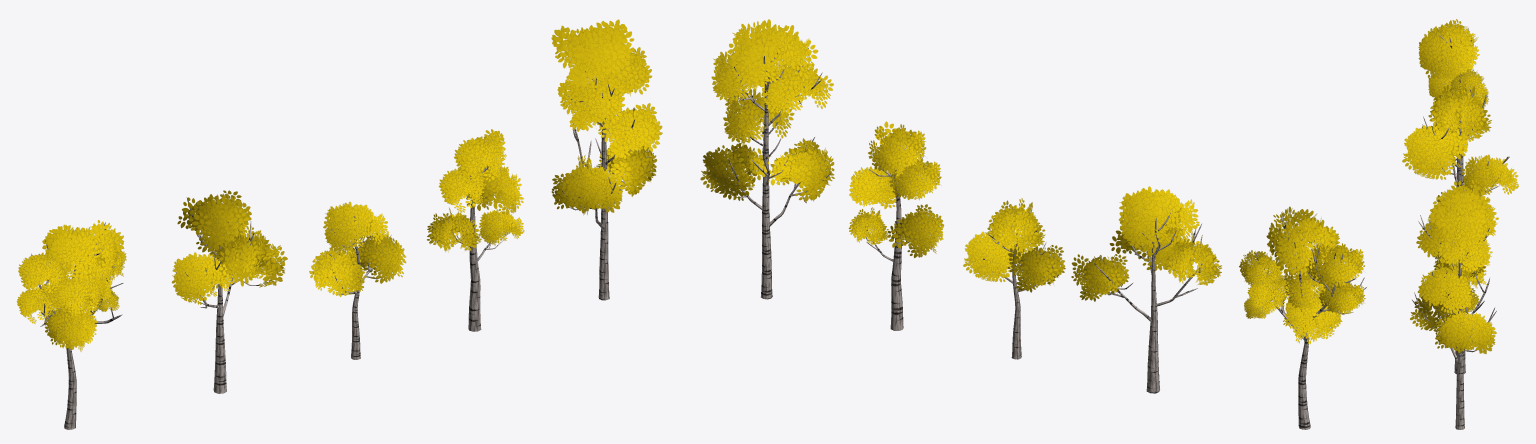
The model's file is BirchTrees.glb.
3 views of the same model, side by side, from view 1: azimuth 30°, elevation 25°; view 2: azimuth 150°, elevation 25°; view 3: azimuth 270°, elevation 25° (orthographic). The views are drawn at different scales.
Visible parts, largest first — view 1: BirchTree_2, BirchTree_3, BirchTree_5, BirchTree_1, BirchTree_4; view 2: BirchTree_2, BirchTree_3, BirchTree_5, BirchTree_1, BirchTree_4; view 3: BirchTree_2, BirchTree_5, BirchTree_3, BirchTree_1.
Part boxes in pixels (<box>): BirchTree_2: <box>551,19,662,300</box>; BirchTree_3: <box>17,220,126,429</box>; BirchTree_5: <box>171,190,287,393</box>; BirchTree_1: <box>427,129,524,331</box>; BirchTree_4: <box>309,201,406,359</box>; BirchTree_2: <box>700,19,834,299</box>; BirchTree_3: <box>1239,206,1366,429</box>; BirchTree_5: <box>1071,186,1221,393</box>; BirchTree_1: <box>848,121,943,330</box>; BirchTree_4: <box>963,198,1065,359</box>; BirchTree_2: <box>1410,178,1498,429</box>; BirchTree_5: <box>1402,81,1518,196</box>; BirchTree_3: <box>1418,19,1488,190</box>; BirchTree_1: <box>1425,201,1486,374</box>.
Size of the model in its own units: 18.56 by 7.57 by 3.51.
2 materials, 2 textured.
